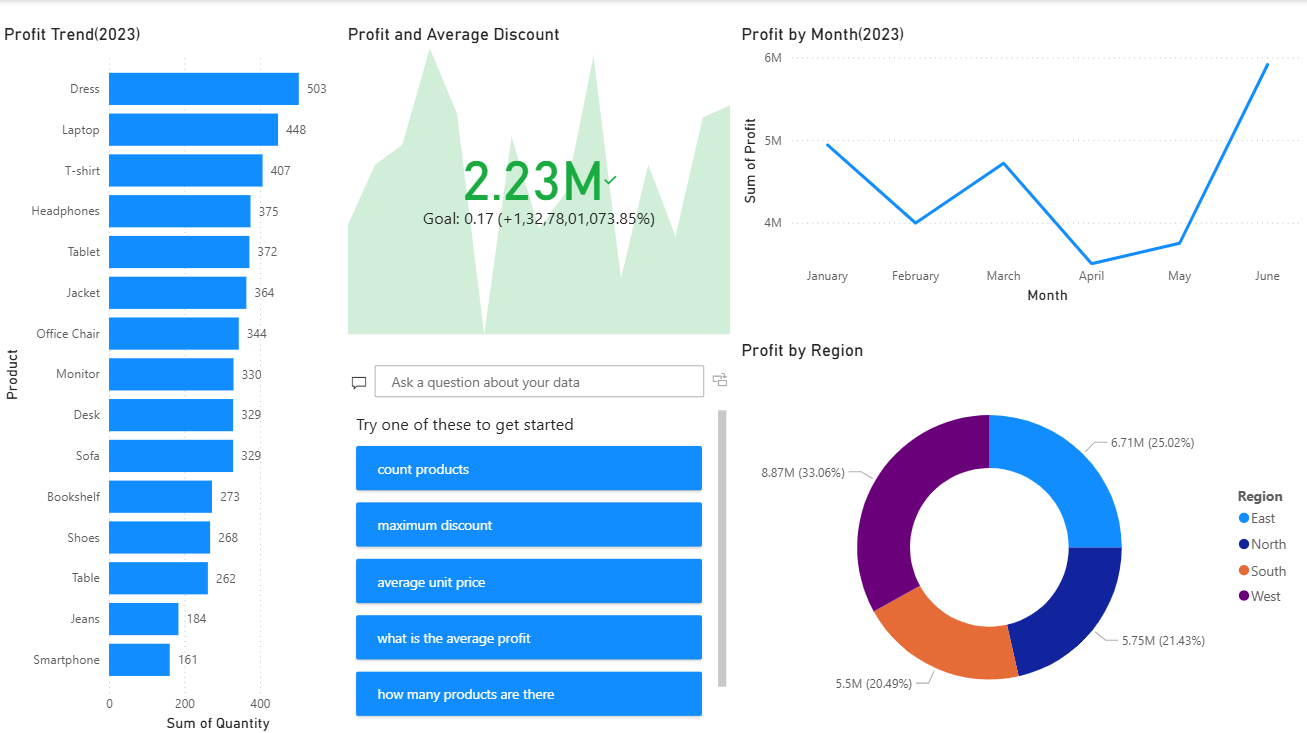

The dashboard page shown, as its layout file describes it:
{"tool":"powerbi","page":{"name":"Page 1","canvas":[1280,720],"ordinal":0},"visuals":[{"type":"kpi","title":"Profit and Average Discount ","fields":{"Goal":["Avg(Sheet1.Discount)"],"Indicator":["Sum(Sheet1.Profit)"],"TrendLine":["Sheet1.Product"]},"box":[336.8,23.7,384.2,309.2],"z":0},{"type":"lineChart","title":"Profit by Month(2023)","fields":{"Category":["Sheet1.Date.Variation.Date Hierarchy.Month"],"Y":["Sum(Sheet1.Profit)"]},"box":[721.1,23.7,559.2,278.9],"z":1000},{"type":"barChart","title":"Profit Trend(2023)","fields":{"Category":["Sheet1.Product"],"Y":["Sum(Sheet1.Quantity)"]},"box":[0,23.7,336.8,697.4],"z":2000},{"type":"donutChart","title":"Profit by Region","fields":{"Y":["Sum(Sheet1.Profit)"],"Series":["Sheet1.Region"]},"box":[721.1,332.9,559.2,386.8],"z":3000},{"type":"qnaVisual","box":[336.8,332.9,384.2,386.8],"z":4000}]}

Visuals, with their boxes in screenshot pixels (x1, y1, x2, y2), scaled from the page's 1280x720 canvas onto the 1307x733 screenshot:
"Profit and Average Discount " kpi: (344, 24, 736, 339)
"Profit by Month(2023)" lineChart: (736, 24, 1306, 308)
"Profit Trend(2023)" barChart: (0, 24, 344, 732)
"Profit by Region" donutChart: (736, 339, 1306, 732)
qnaVisual: (344, 339, 736, 732)
